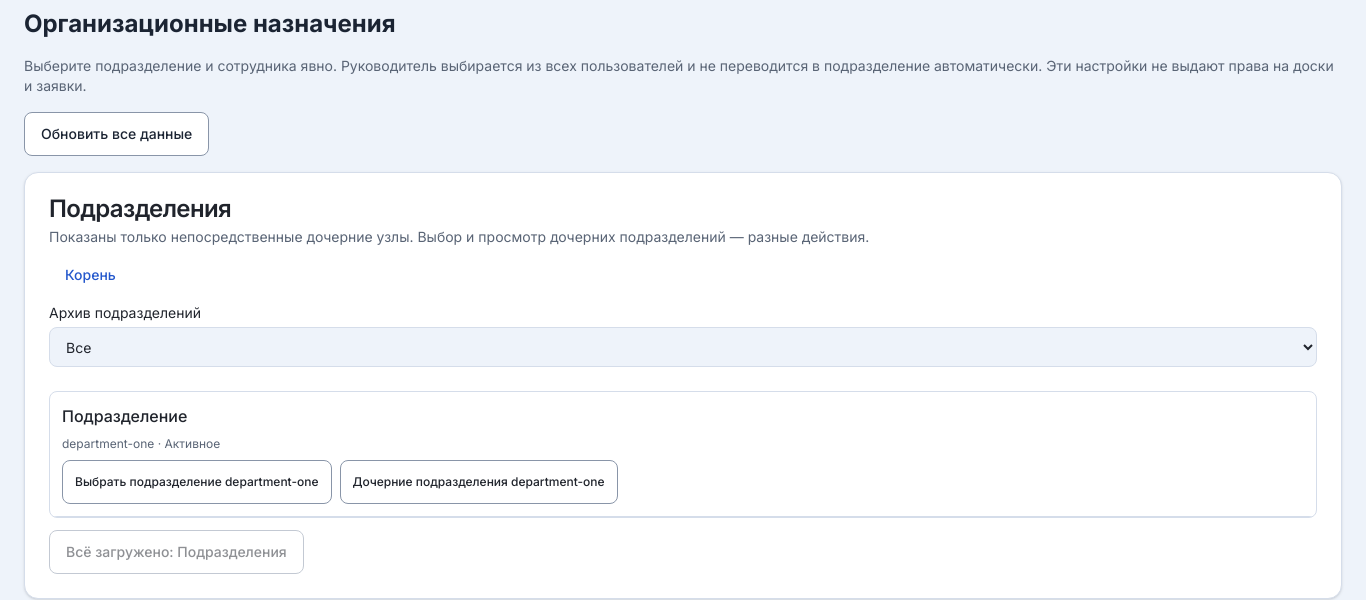
it: assignment server gate and read selection › filters archived departments without silently retaining an invisible selection
This screenshot has width=1366, height=600.
Step 1. Click the button "Выбрать подразделение department-one" → (197, 482), box 62,460 -> 332,504
(page scrolled)
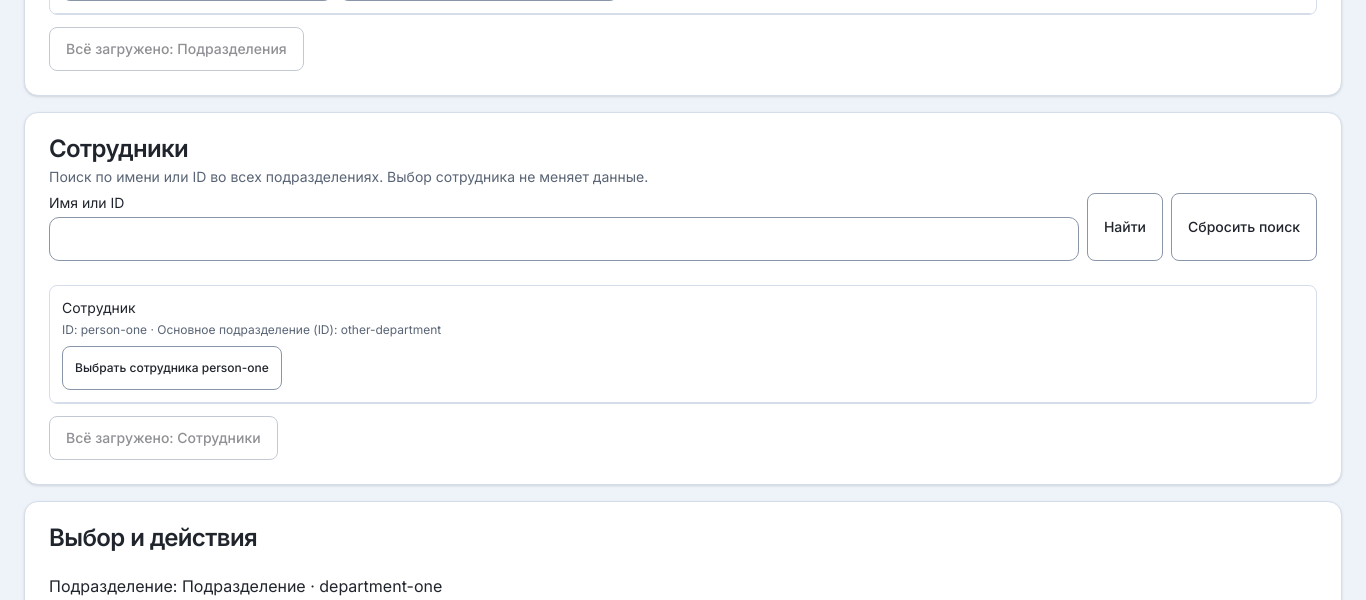
Step 2. Click the button "Выбрать сотрудника person-one" → (172, 368), box 62,346 -> 282,390
(page scrolled)
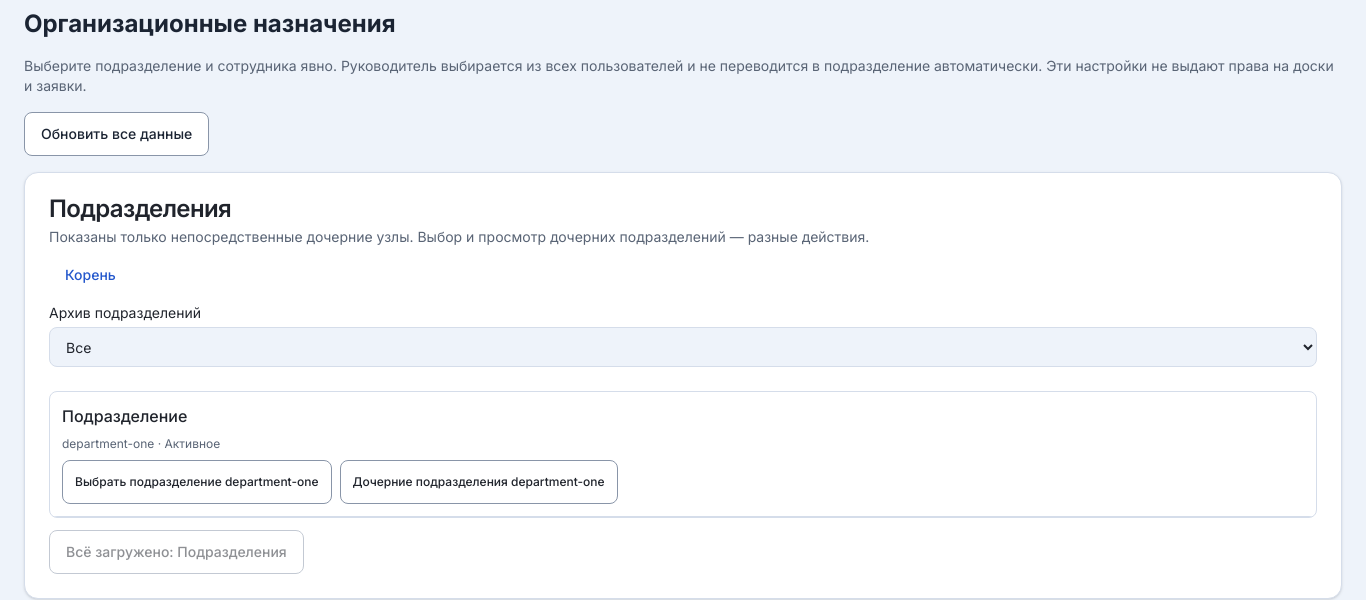
Step 3. Select "Архивные" in the dropdown labelled "Архив подразделений" → (683, 347), box 49,327 -> 1317,367
(page scrolled)
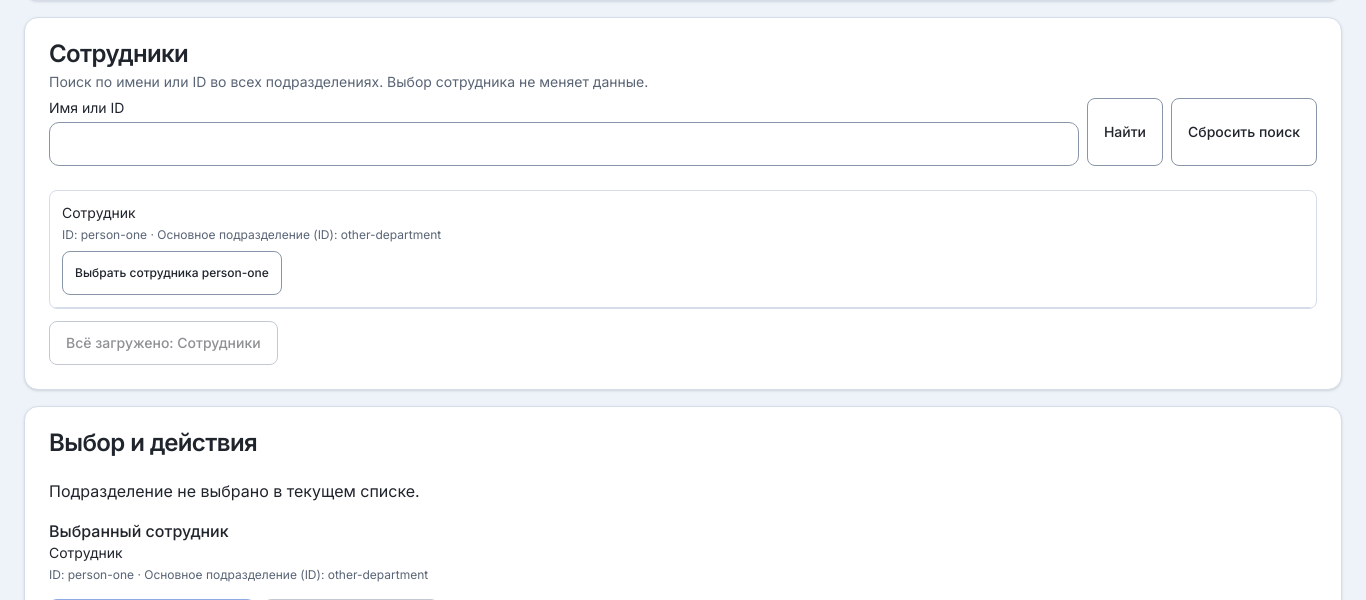
expect the text "Подразделение не выбрано в текущем списке." is shown: met, box 49,481 -> 420,501
